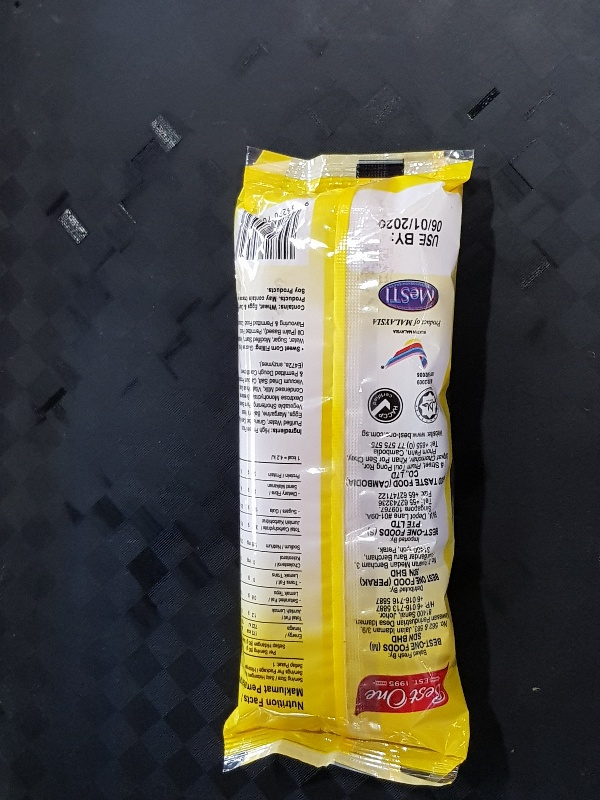Tinges Roll Sweet Corn: (223, 143, 475, 785)
